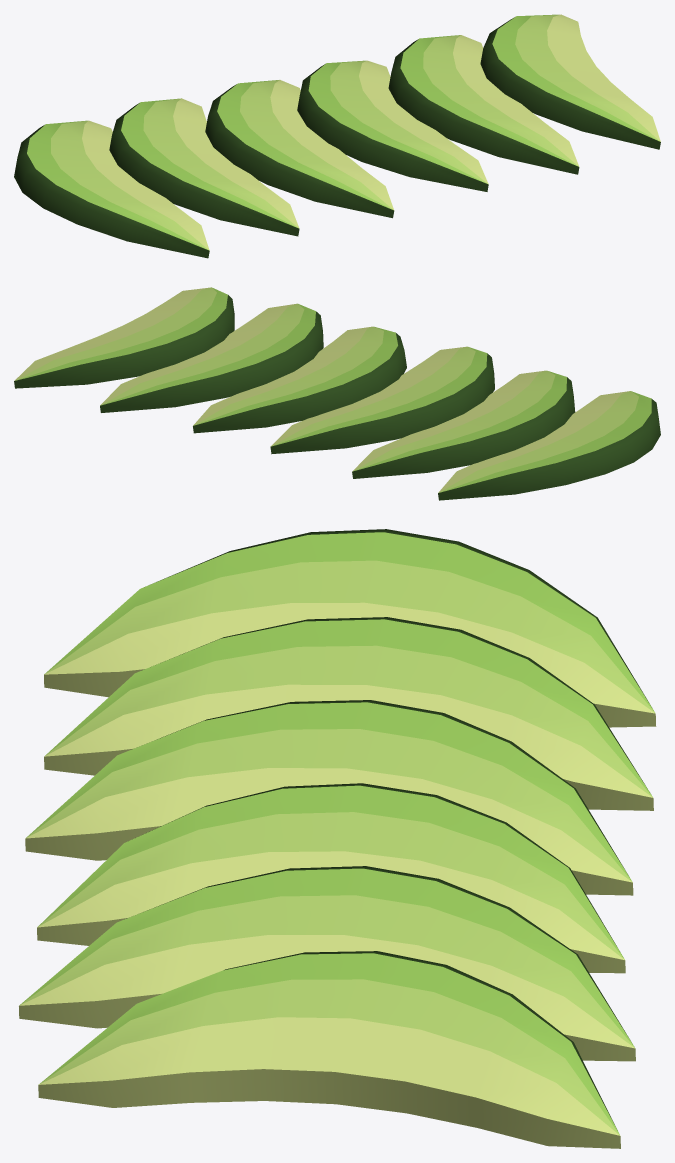
The model's file is Food_Avocado.fbx.
The picture shows the model from 3 angles, top to bottom: view 1: azimuth 30°, elevation 25°; view 2: azimuth 150°, elevation 25°; view 3: azimuth 270°, elevation 25°; orthographic projection. The views are drawn at different scales.
Parts seen in each view (by area): view 1: Skin, FleshMid, FleshInner, FleshOuter; view 2: Skin, FleshMid, FleshInner, FleshOuter; view 3: FleshInner, FleshMid, FleshOuter, Skin.
Boxes of the visible parts, x1,y1,x2,y2 form: Skin: [14, 17, 660, 258]; FleshMid: [51, 14, 660, 249]; FleshInner: [82, 14, 660, 250]; FleshOuter: [27, 14, 659, 249]; Skin: [14, 295, 660, 500]; FleshMid: [15, 287, 638, 492]; FleshInner: [14, 287, 629, 492]; FleshOuter: [16, 288, 651, 492]; FleshInner: [19, 602, 656, 1148]; FleshMid: [19, 560, 654, 1134]; FleshOuter: [20, 532, 654, 1134]; Skin: [147, 529, 650, 1130].
Size of the model in its own units: 184 by 12.93 by 90.59.
